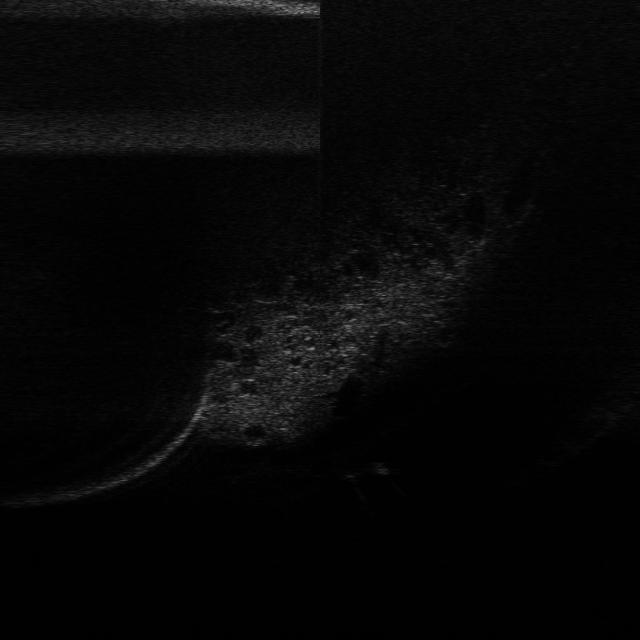cube: (332, 463, 366, 482)
cylinder: (368, 458, 391, 478)
